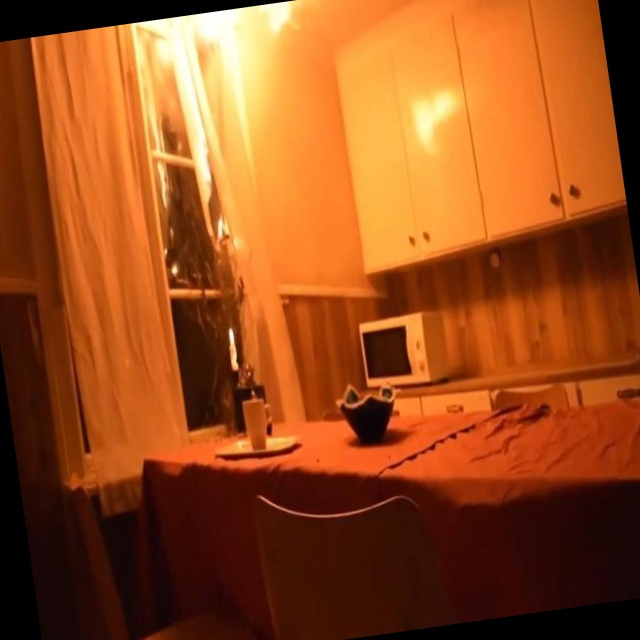fire: (120, 0, 332, 191)
